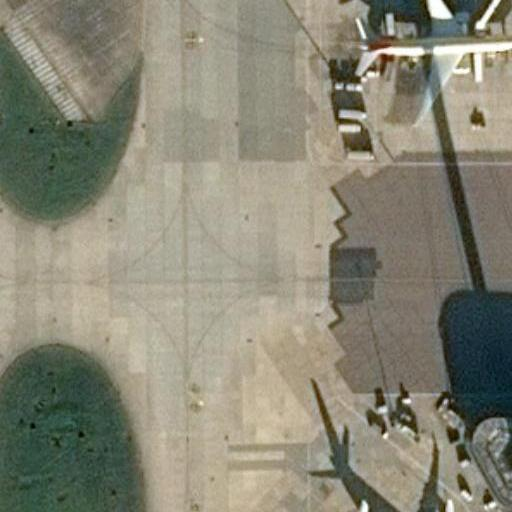Aircraft: (348, 0, 512, 124), (322, 491, 501, 512)
